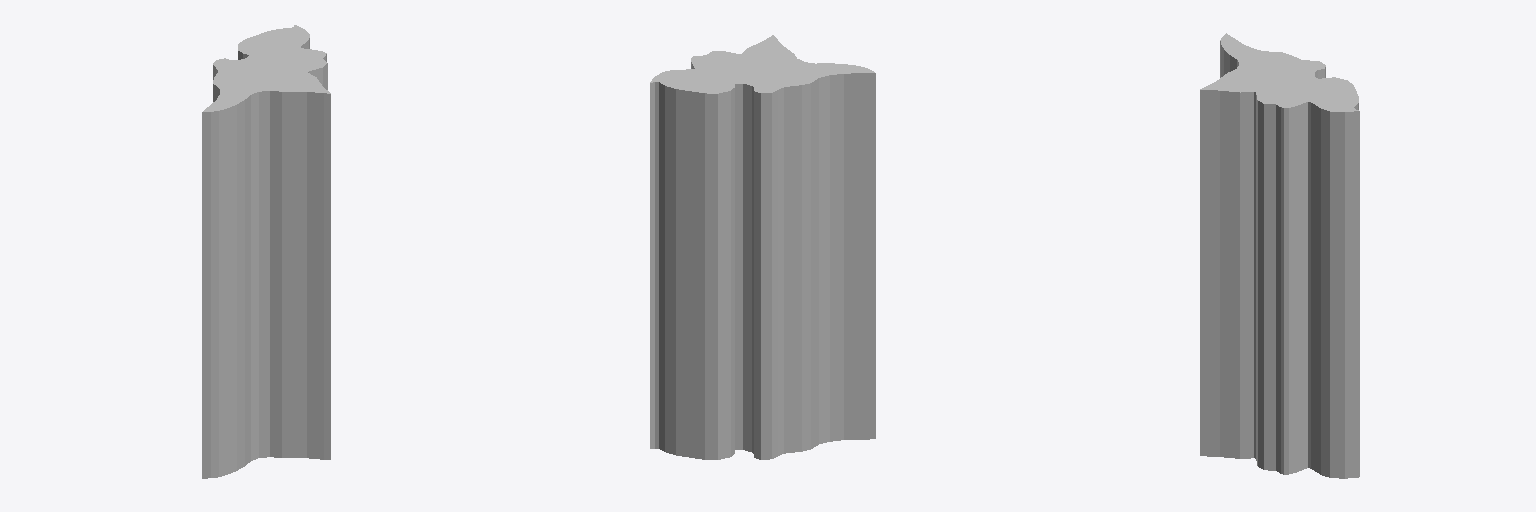
3 views of the same model, side by side, from view 1: azimuth 30°, elevation 25°; view 2: azimuth 150°, elevation 25°; view 3: azimuth 270°, elevation 25° (orthographic).
Visible parts, largest first — view 1: NL.002_CUCurve.1813; view 2: NL.002_CUCurve.1813; view 3: NL.002_CUCurve.1813.
Boxes of the visible parts, x1=… form: NL.002_CUCurve.1813: x1=202, y1=25, x2=330, y2=478; NL.002_CUCurve.1813: x1=650, y1=35, x2=875, y2=459; NL.002_CUCurve.1813: x1=1200, y1=33, x2=1359, y2=478.
Bounding box in the file's own units: 0.0232 × 0.05 × 0.0199.